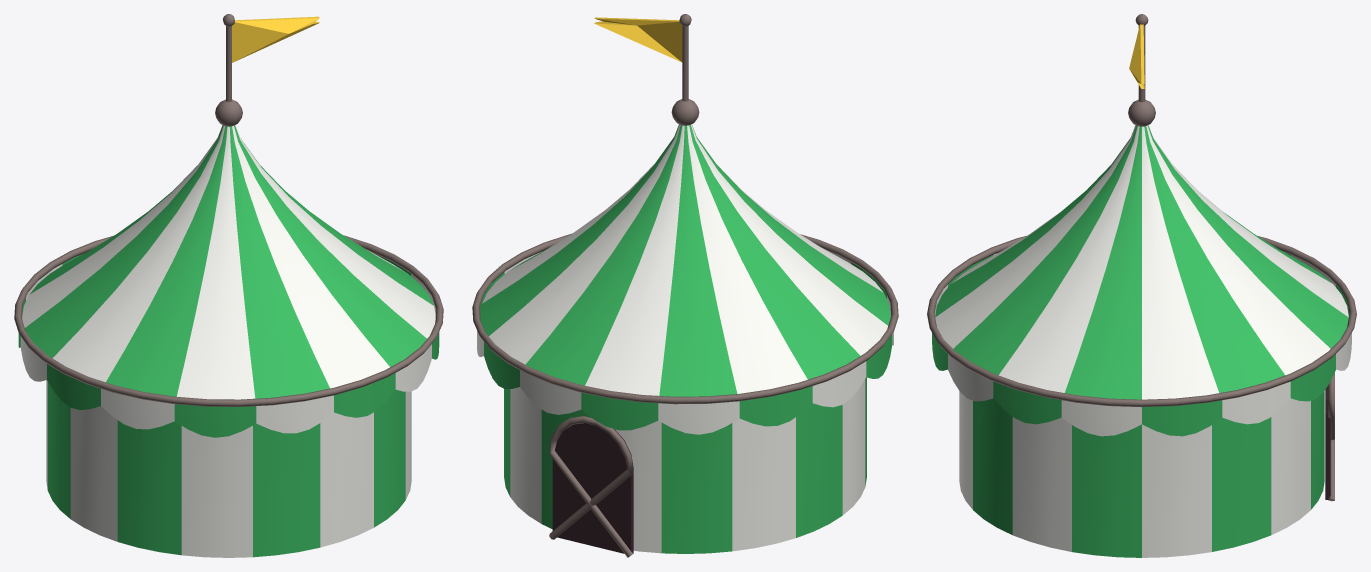
Rendered from ArrowAmbushTent.obj.
The picture shows the model from 3 angles, left to right: view 1: azimuth 30°, elevation 25°; view 2: azimuth 150°, elevation 25°; view 3: azimuth 270°, elevation 25°; orthographic projection.
Parts seen in each view (by area): view 1: StripeA, StripeB, Trim, Flag; view 2: StripeB, StripeA, Trim, Inside, Flag; view 3: StripeA, StripeB, Trim, Flag, Inside.
Boxes of the visible parts, left/top/right/bottom form: StripeA: left=18, top=125, right=439, bottom=557; StripeB: left=20, top=125, right=436, bottom=557; Trim: left=14, top=14, right=443, bottom=406; Flag: left=232, top=16, right=319, bottom=62; StripeB: left=477, top=124, right=893, bottom=553; StripeA: left=479, top=124, right=892, bottom=553; Trim: left=472, top=14, right=898, bottom=557; Inside: left=552, top=423, right=633, bottom=553; Flag: left=594, top=17, right=682, bottom=62; StripeA: left=932, top=125, right=1349, bottom=557; StripeB: left=934, top=125, right=1351, bottom=557; Trim: left=927, top=14, right=1356, bottom=501; Flag: left=1129, top=24, right=1144, bottom=88; Inside: left=1325, top=385, right=1330, bottom=499.
Bounding box in the file's own units: 8 × 9.62 × 8.
